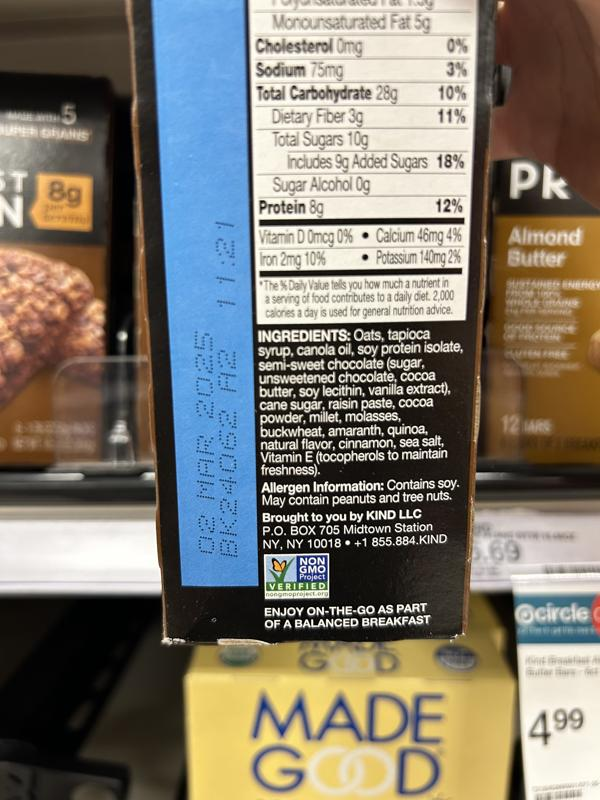ingredients: (256, 327, 466, 477)
